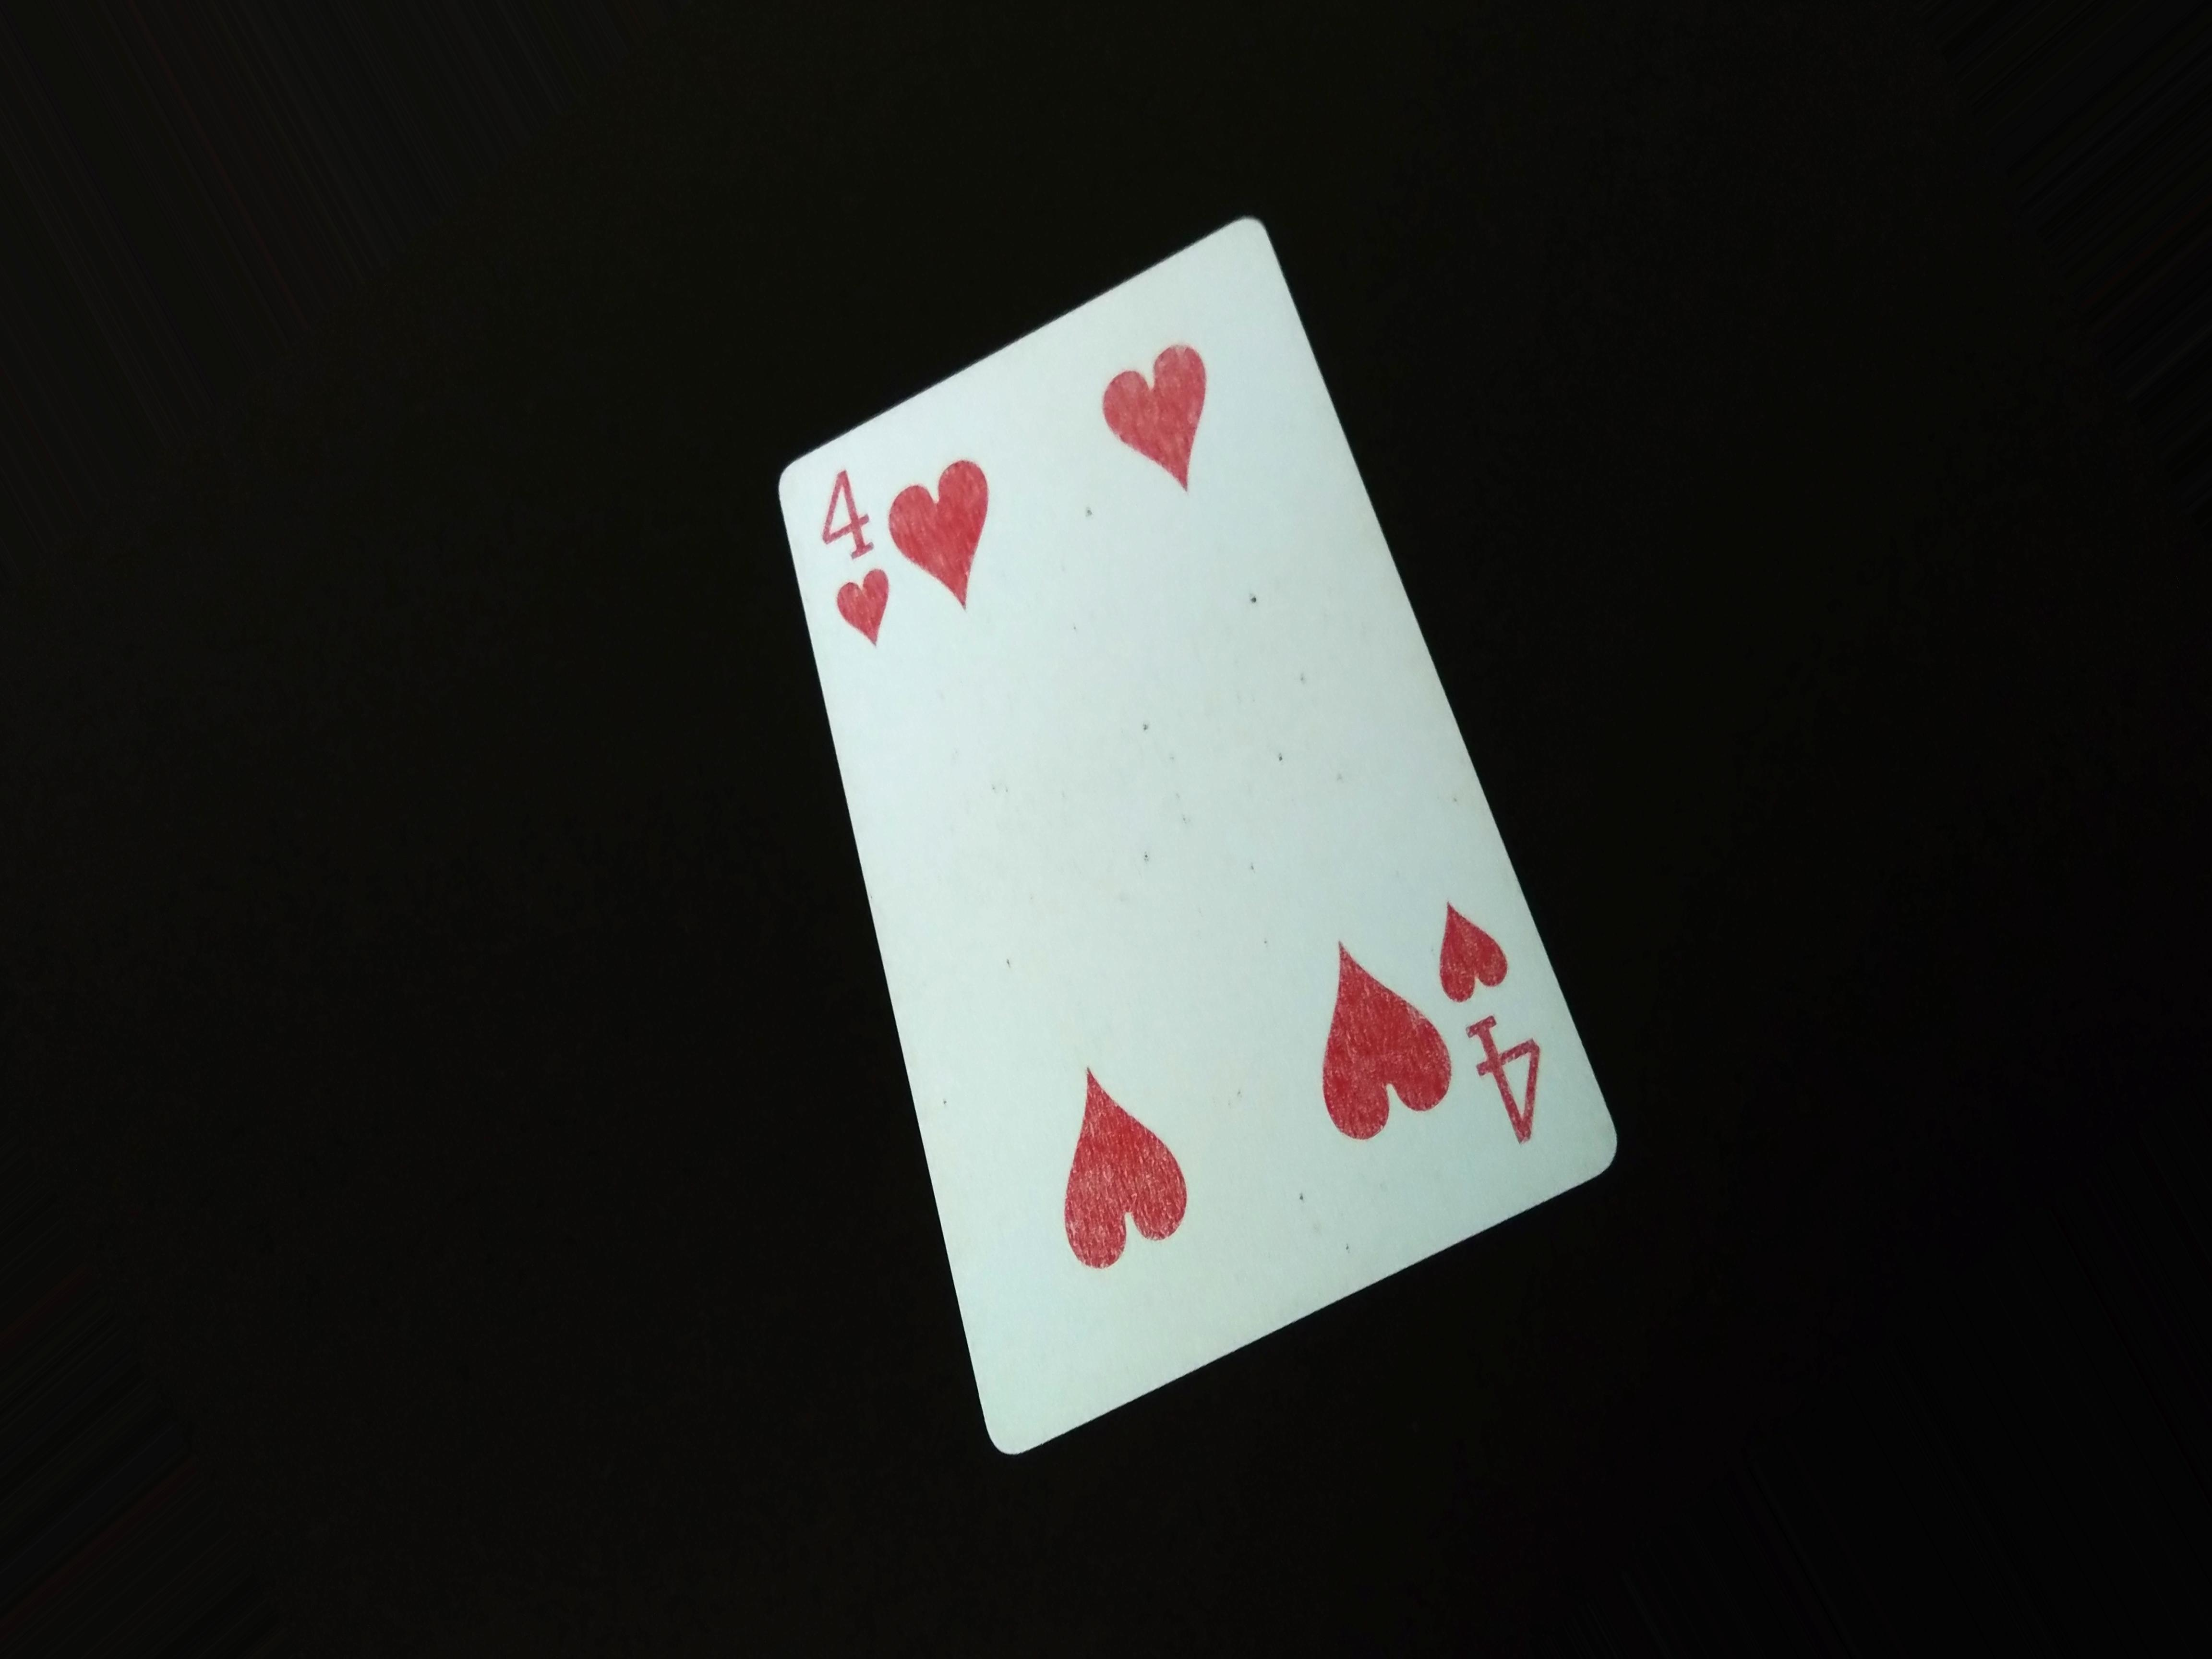4H: (1428, 892, 1568, 1138)
